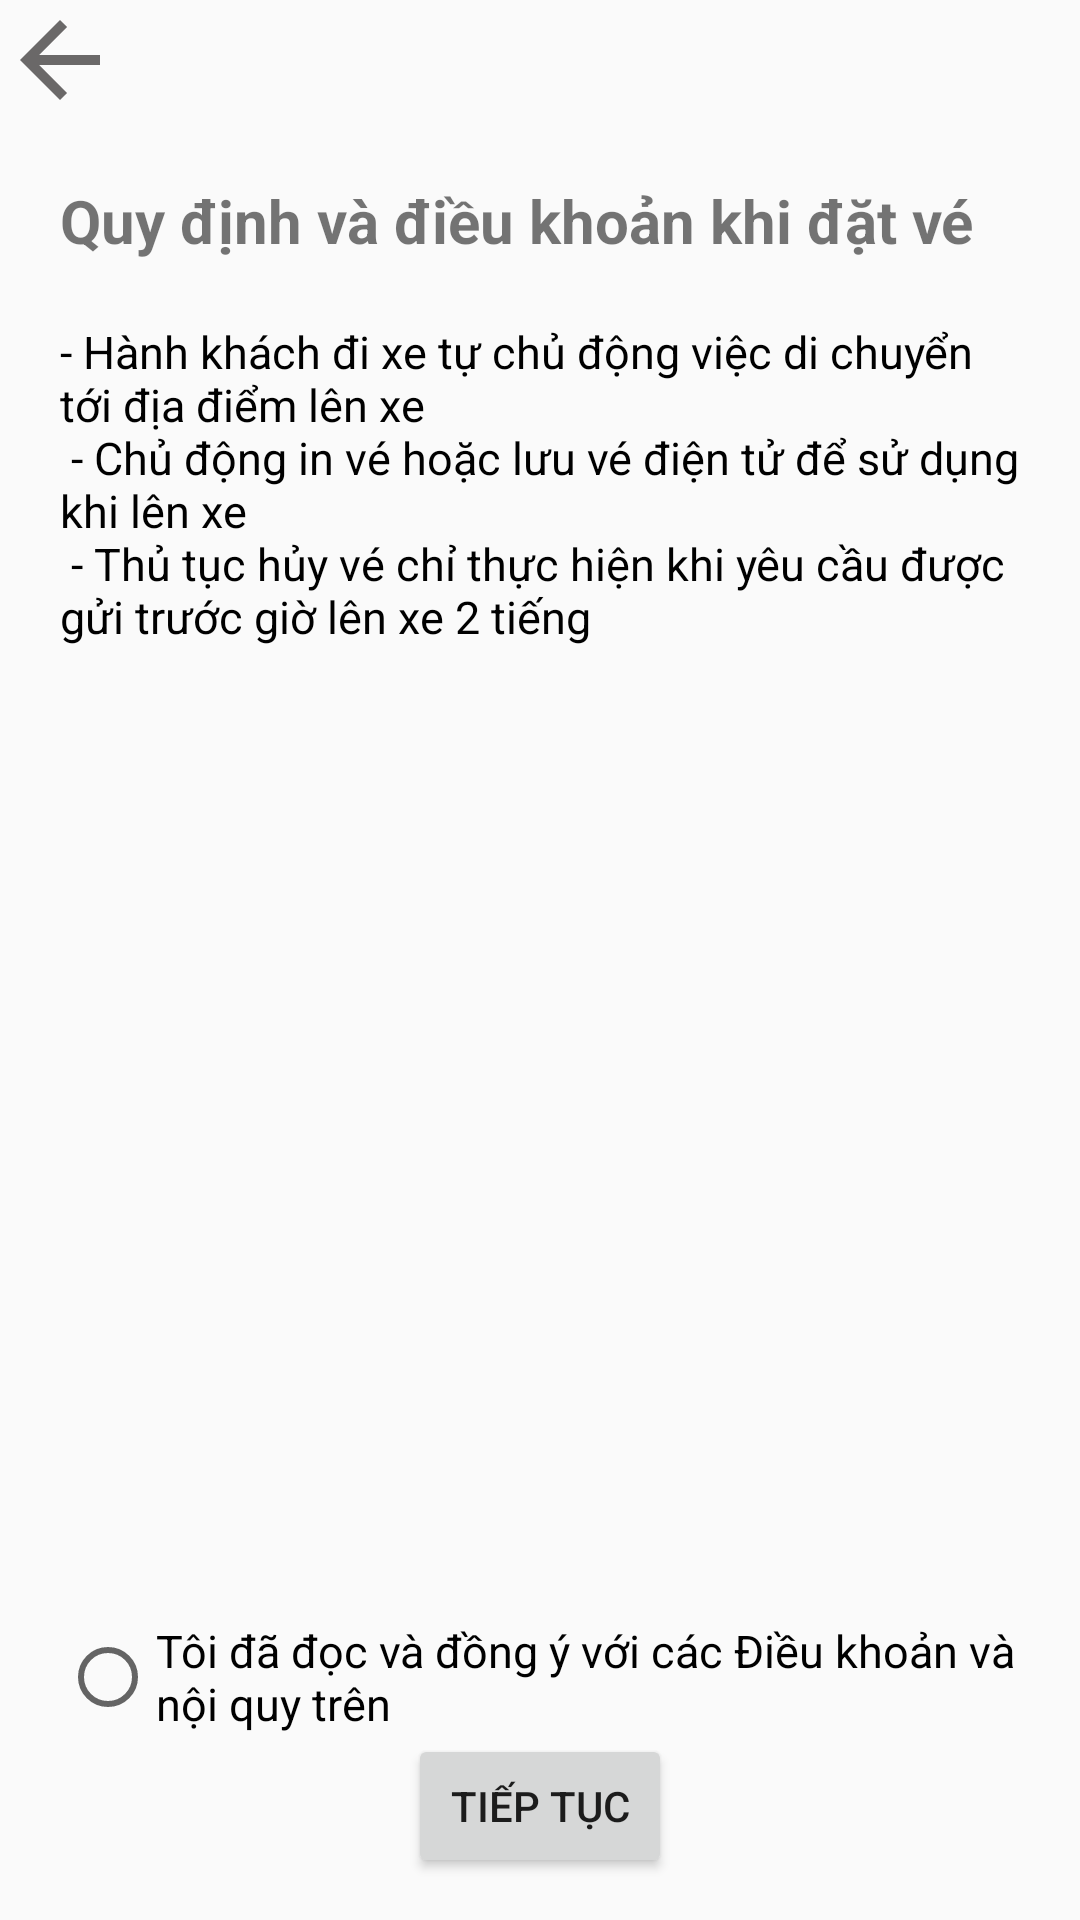

Icons on this 1080x1920 Android screen, each with the point to tap as (x=x, y=y):
back: (x=60, y=60)
